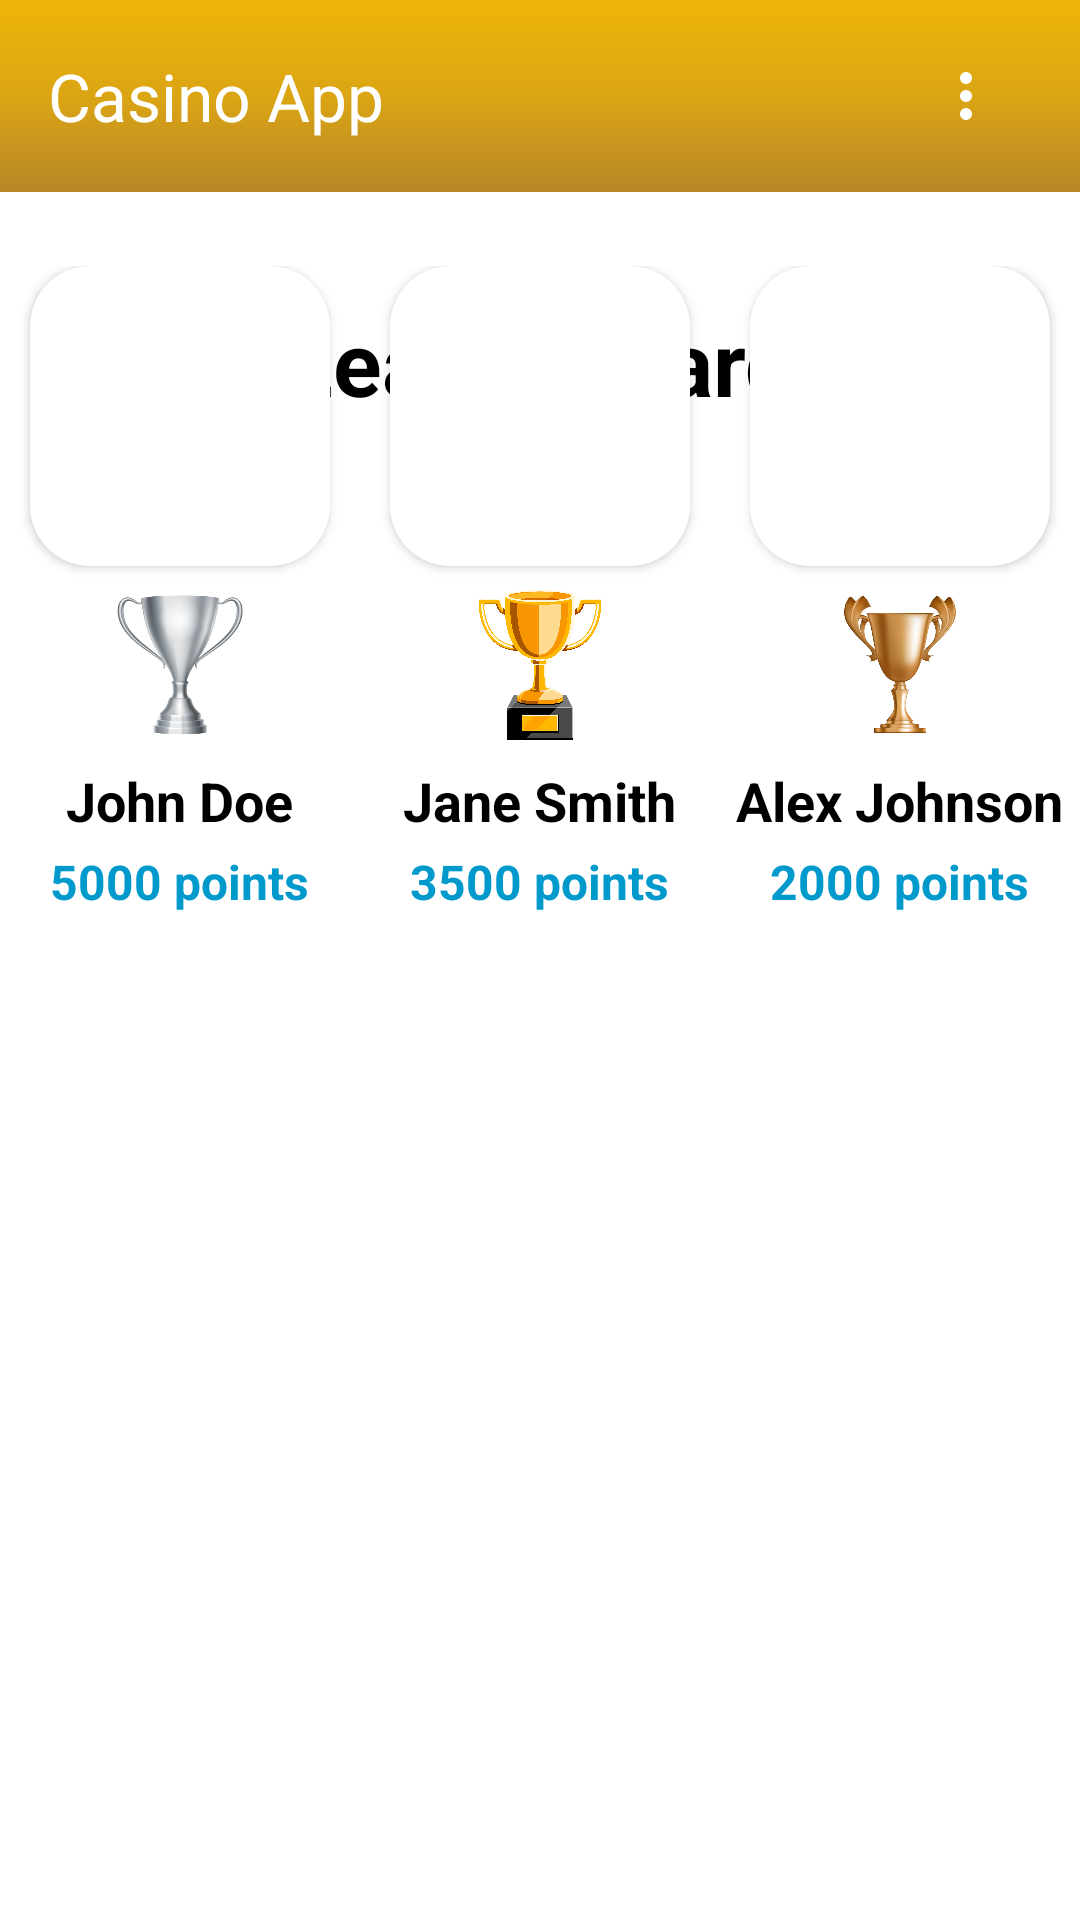

Where icons sit on this 1080px x 1920px app screen, as bbox=[x1, y1, x2, y2]:
bronzetrophy: bbox=[844, 596, 956, 733]
goldthrophy: bbox=[479, 590, 601, 740]
silvertrophy: bbox=[117, 596, 243, 734]
